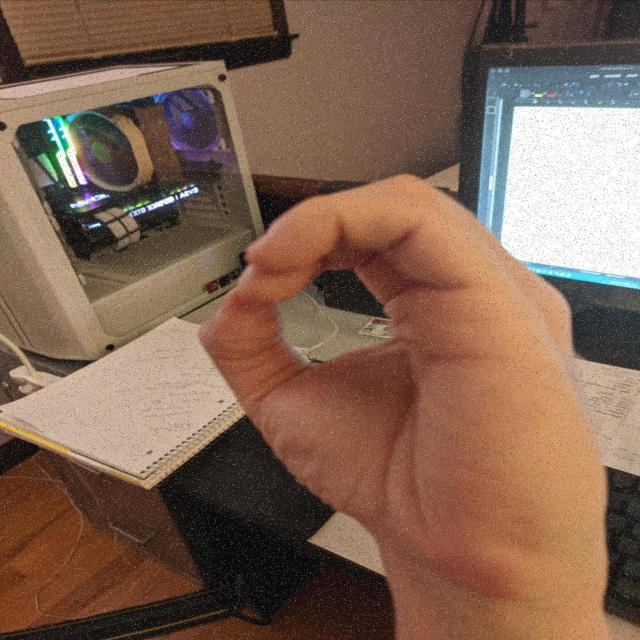O: (192, 169, 618, 609)
